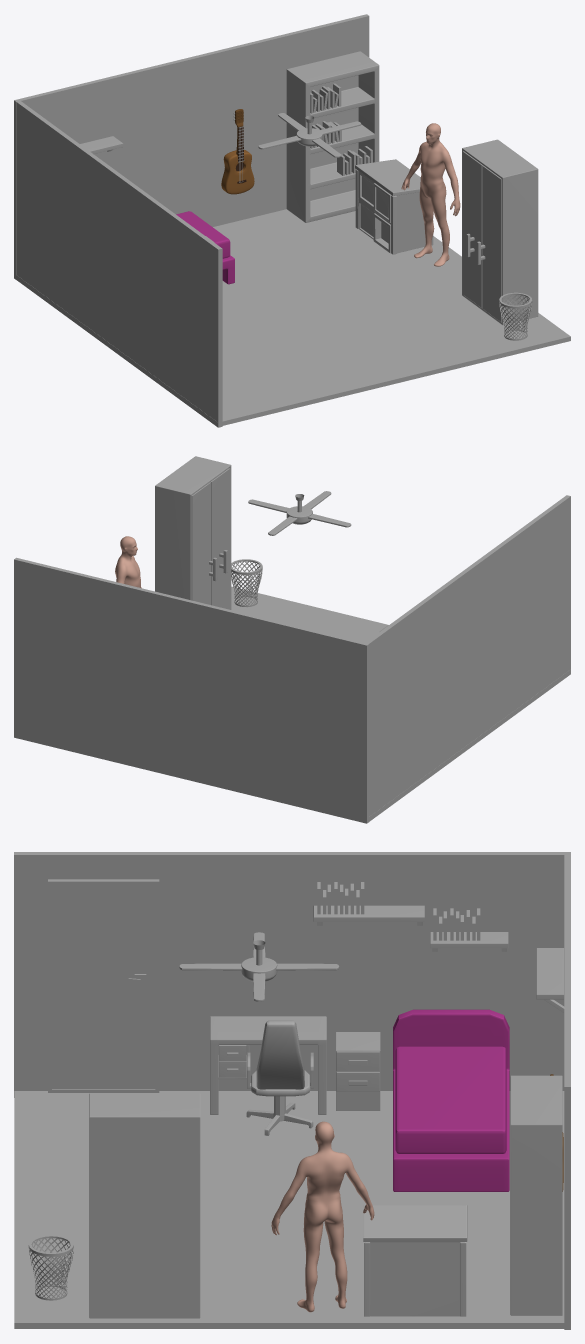
The model's file is adassdadasdada.fbx.
3 views of the same model, one above another, from view 1: azimuth 30°, elevation 25°; view 2: azimuth 150°, elevation 25°; view 3: azimuth 270°, elevation 25° (orthographic). The views are drawn at different scales.
Parts seen in each view (by area): view 1: polySurface250; view 2: polySurface250; view 3: polySurface250.
Part boxes in pixels (<box>): polySurface250: <box>14,14,570,427</box>; polySurface250: <box>14,456,570,823</box>; polySurface250: <box>14,852,570,1329</box>.
Bounding box in the file's own units: 500 × 271 × 501.
